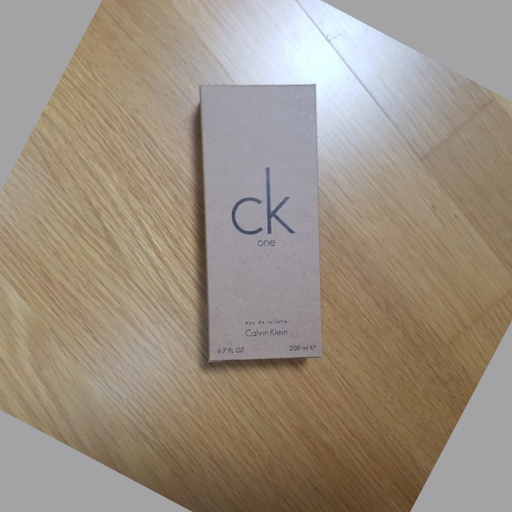Paper_0: (191, 78, 339, 368)
